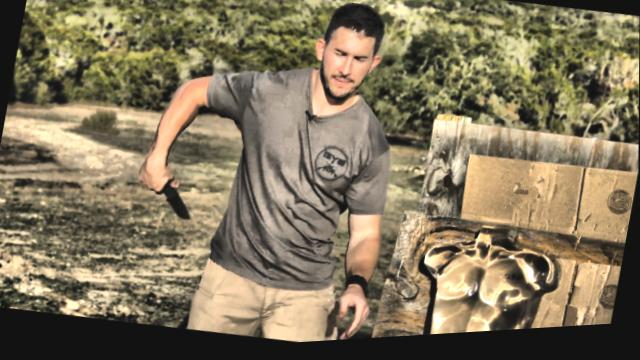knife: (125, 157, 201, 230)
